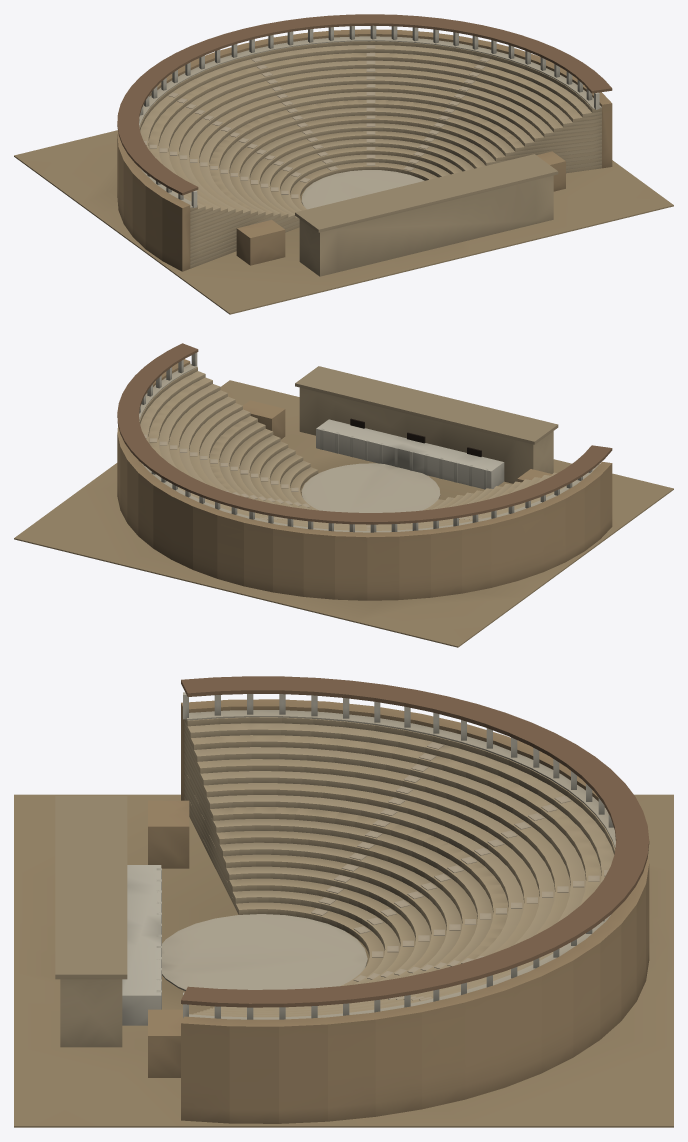
File: theatre.glb
3 views of the same model, one above another, from view 1: azimuth 30°, elevation 25°; view 2: azimuth 150°, elevation 25°; view 3: azimuth 270°, elevation 25° (orthographic). The views are drawn at different scales.
Visible parts, largest first — view 1: p0_cavea, p1_stage; view 2: p0_cavea, p1_stage; view 3: p0_cavea, p1_stage.
Boxes of the visible parts, x1,y1,x2,y2 form: p0_cavea: (14, 29, 673, 314); p1_stage: (117, 14, 612, 276); p0_cavea: (14, 359, 673, 647); p1_stage: (117, 343, 612, 532); p0_cavea: (14, 699, 673, 1127); p1_stage: (55, 676, 649, 1077).
Size of the model in its own units: 76 by 13.06 by 64.
